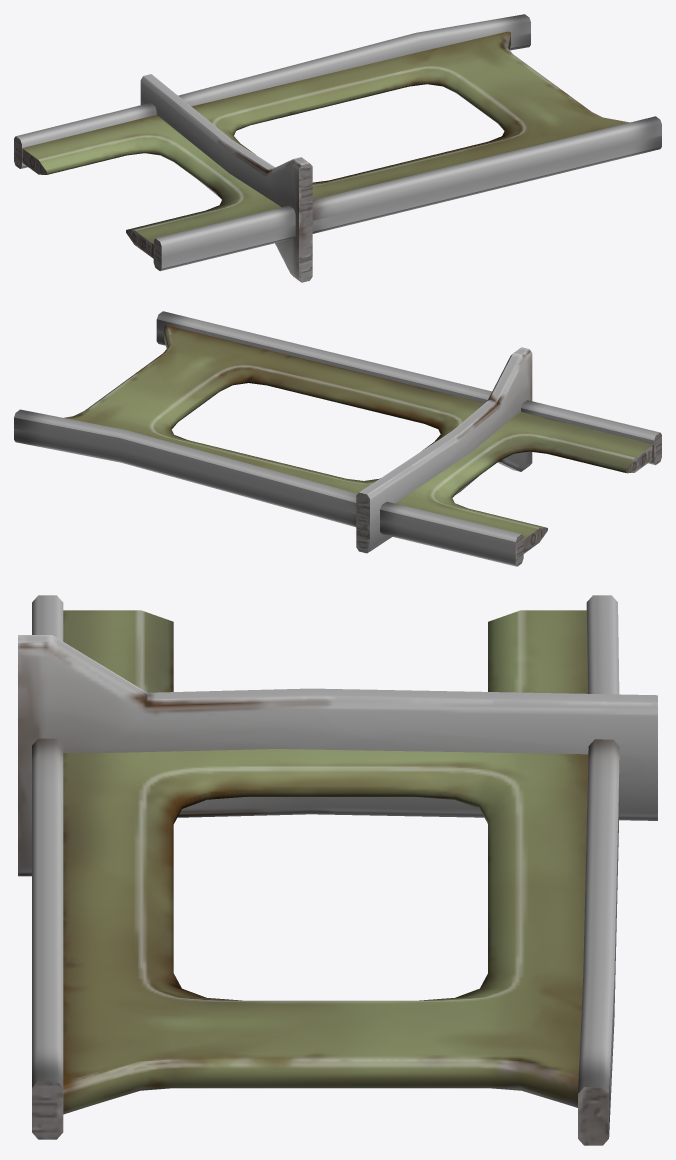
The model's file is HubWall5.FBX.
3 views of the same model, one above another, from view 1: azimuth 30°, elevation 25°; view 2: azimuth 150°, elevation 25°; view 3: azimuth 270°, elevation 25° (orthographic). The views are drawn at different scales.
Parts seen in each view (by area): view 1: HubWall5_LOD0; view 2: HubWall5_LOD0; view 3: HubWall5_LOD0.
Part boxes in pixels (left/top/right/bottom): HubWall5_LOD0: left=14, top=14, right=661, bottom=282; HubWall5_LOD0: left=14, top=311, right=661, bottom=566; HubWall5_LOD0: left=18, top=595, right=657, bottom=1145.
Size of what is drawn, in the model's own units: 7.4 by 1.64 by 4.07.
